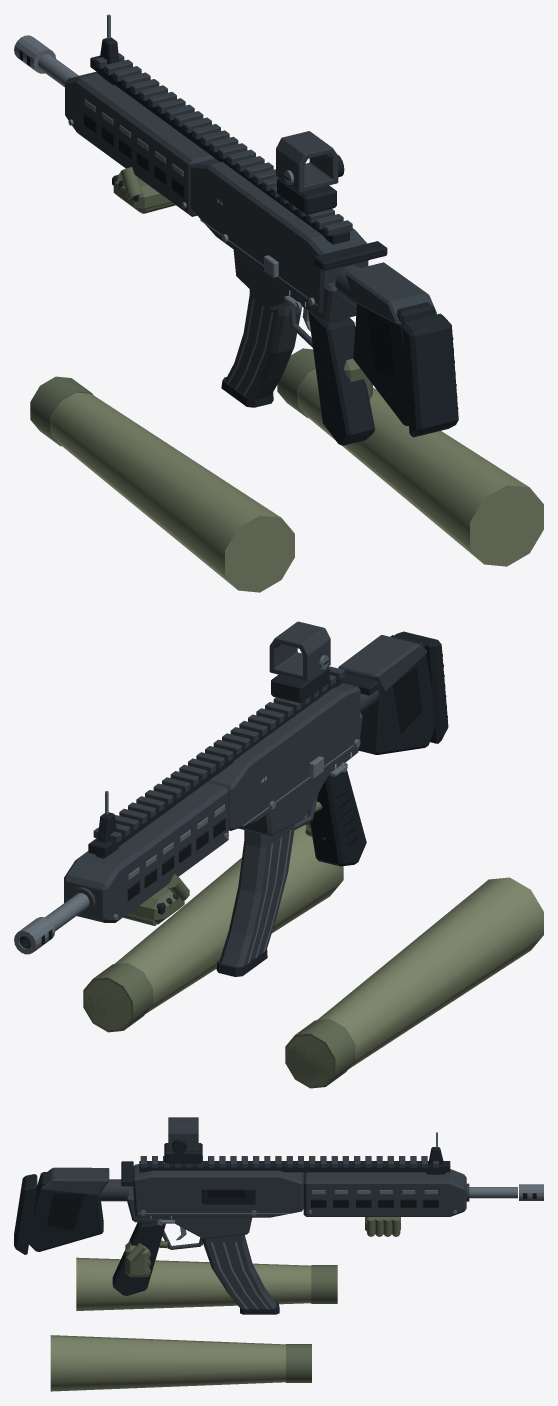
3 renders of one model, top to bottom at view 1: azimuth 30°, elevation 25°; view 2: azimuth 150°, elevation 25°; view 3: azimuth 270°, elevation 25°, orthographic. The views are drawn at different scales.
Visible parts, largest first — view 1: Body, SupportForearm, FiringForearm, Magazine, SupportHand; view 2: Body, SupportForearm, FiringForearm, Magazine, SupportHand; view 3: Body, FiringForearm, SupportForearm, Magazine, FiringHand, SupportHand.
Part boxes in pixels (x1,y1,x2,y2): Body: (14, 14, 458, 445); SupportForearm: (30, 376, 294, 592); FiringForearm: (277, 348, 543, 566); Magazine: (221, 289, 301, 407); SupportHand: (112, 167, 175, 213); Body: (14, 621, 448, 954); SupportForearm: (285, 877, 543, 1088); FiringForearm: (83, 824, 343, 1032); Magazine: (216, 824, 294, 976); SupportHand: (123, 874, 189, 925); Body: (14, 1117, 543, 1295); FiringForearm: (50, 1335, 311, 1391); SupportForearm: (76, 1257, 337, 1310); Magazine: (202, 1235, 279, 1314); FiringHand: (125, 1240, 167, 1277); SupportHand: (365, 1217, 400, 1236).
Bounding box in the file's own units: 0.4228 × 0.502 × 1.01.
